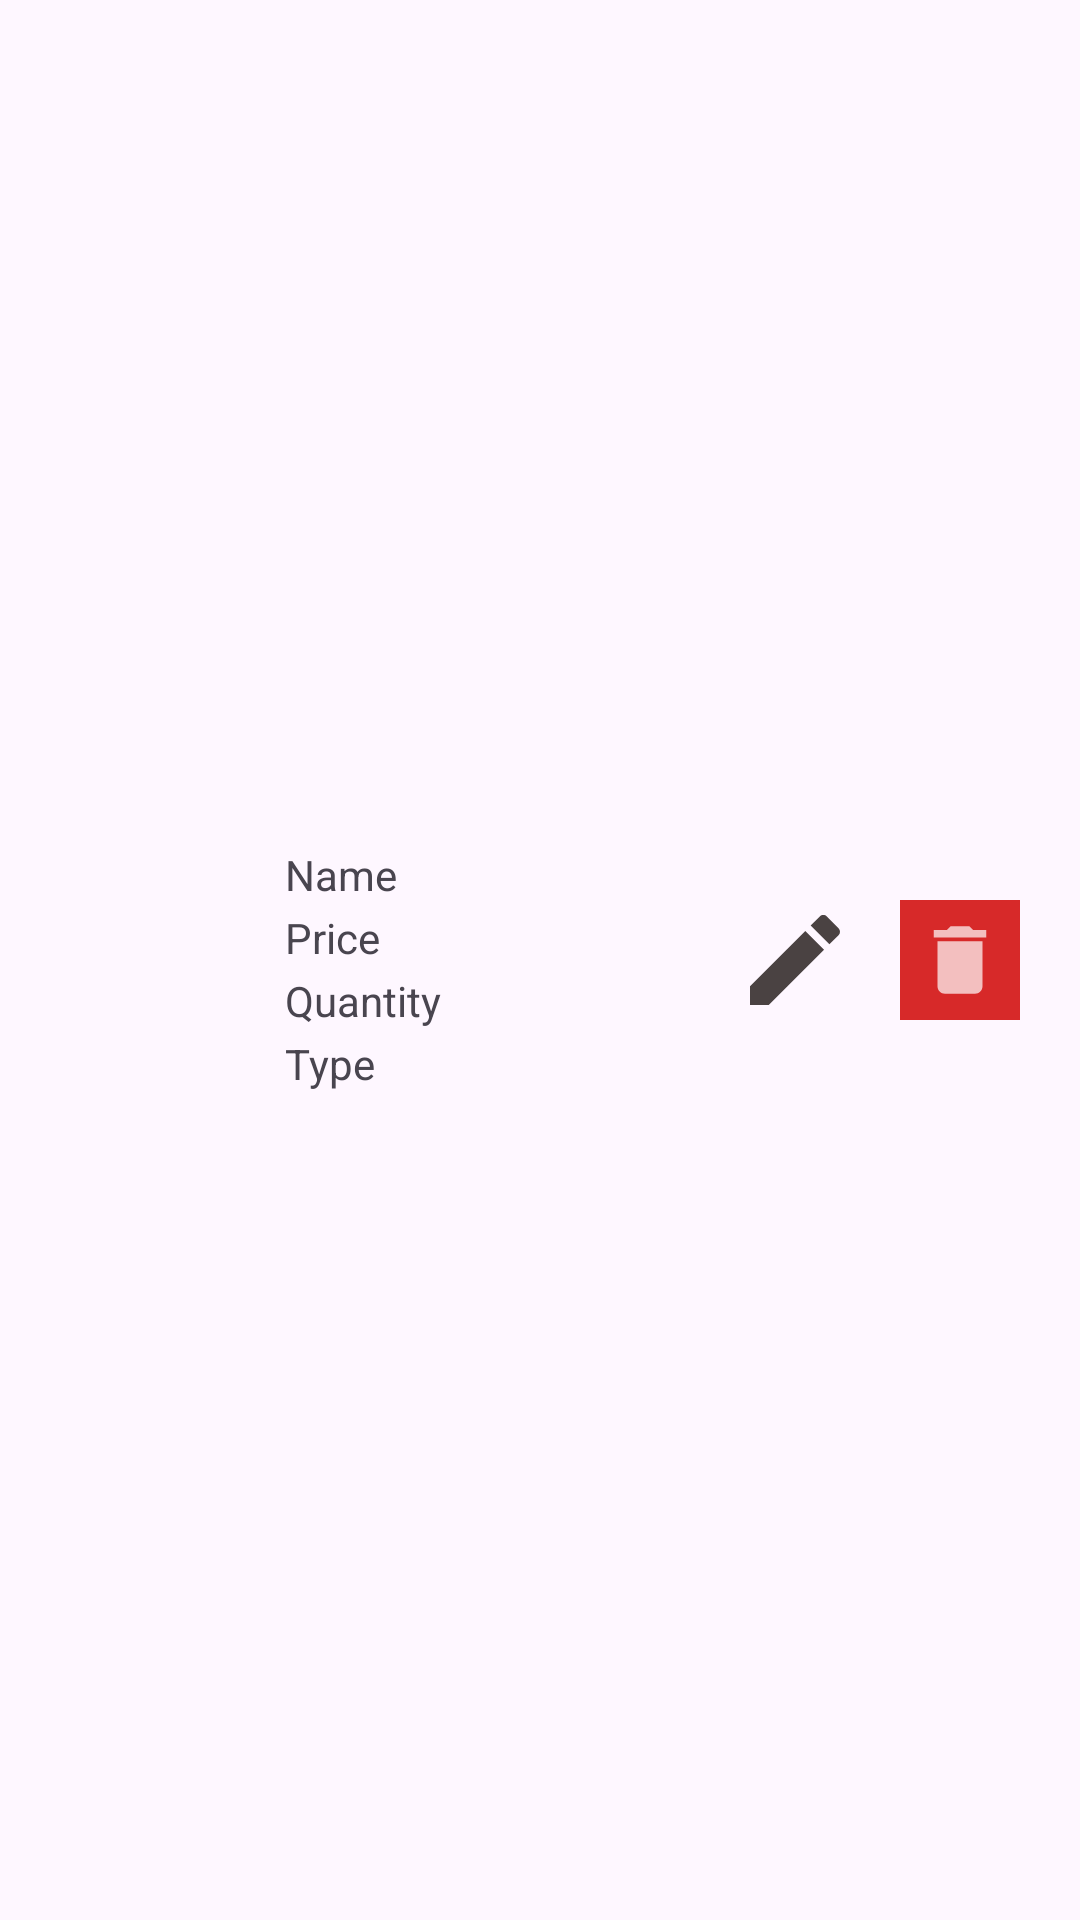

Locate icon controls on the screen. Image size 1080px×1920px, boxes as (x1, y1, x2, y2).
delete: (900, 900, 1020, 1020)
mode edit: (750, 915, 840, 1005)
